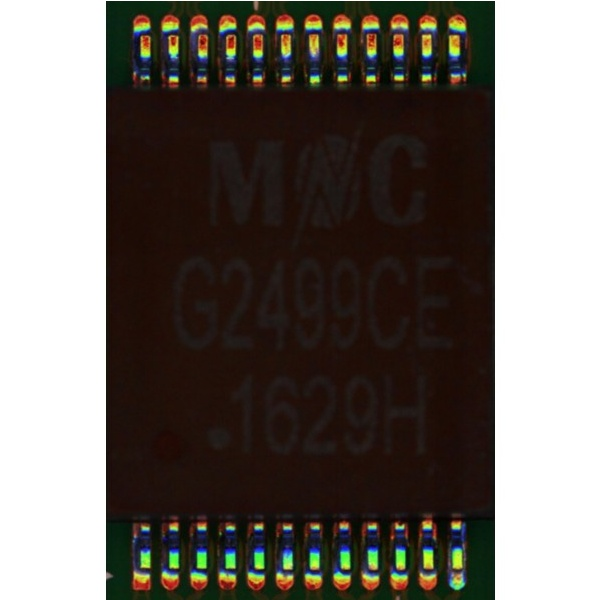Bad_podu: (453, 563, 461, 577)
Bad_qiaojiao: (462, 521, 466, 567), (446, 537, 451, 569)
